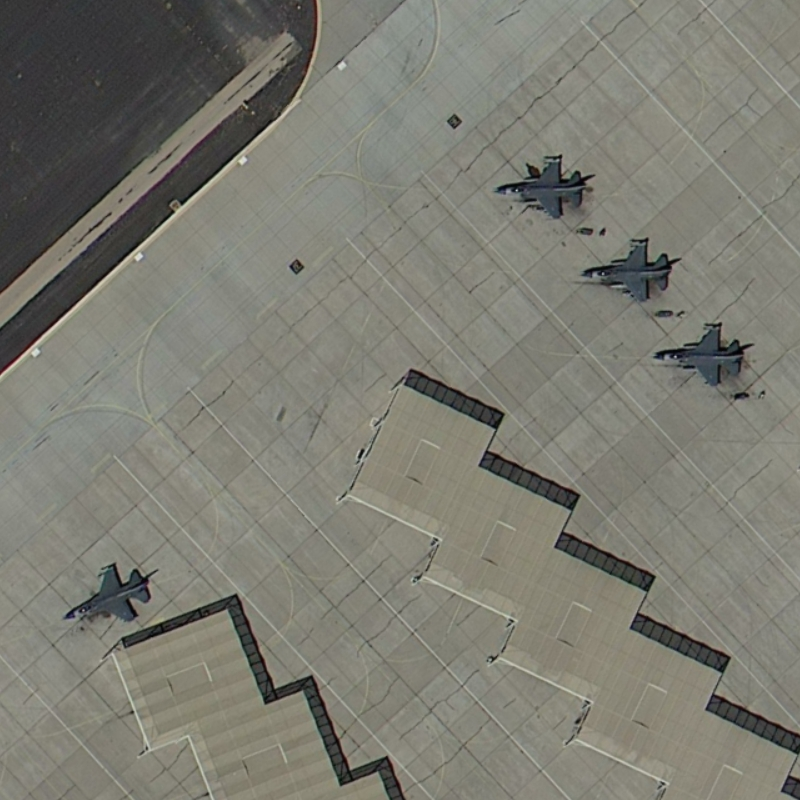A5: (570, 233, 680, 309), (61, 553, 159, 631), (486, 152, 594, 222), (647, 317, 750, 389)
